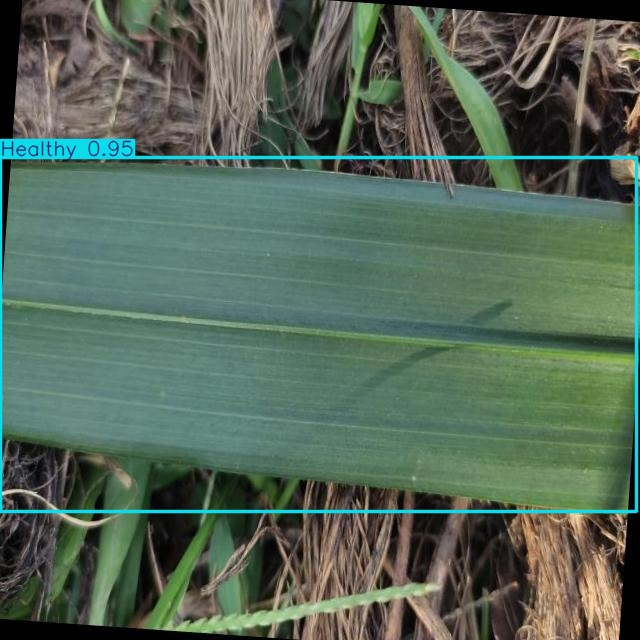Healthy: (0, 158, 637, 511)
